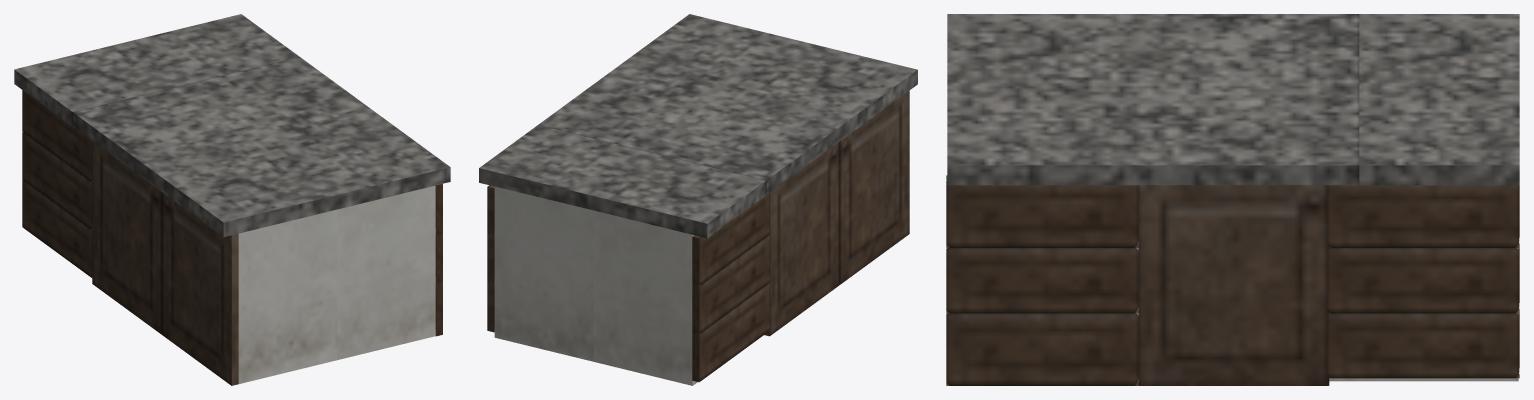
File: SM_EC_Kitchen_Island_Complete.fbx
3 views of the same model, side by side, from view 1: azimuth 30°, elevation 25°; view 2: azimuth 150°, elevation 25°; view 3: azimuth 270°, elevation 25° (orthographic). The views are drawn at different scales.
Parts seen in each view (by area): view 1: SM_EC_Kitchen_Island_Complete, SM_EC_CupboardDoor_7.022, SM_EC_CupboardDoor_7.021, SM_EC_FridgeFreezer_Complete_0.059, SM_EC_FridgeFreezer_Complete_0.060, SM_EC_FridgeFreezer_Complete_0.061, SM_EC_FridgeFreezer_Complete_0.052, SM_EC_FridgeFreezer_Complete_0.057, SM_EC_FridgeFreezer_Complete_0.056; view 2: SM_EC_Kitchen_Island_Complete, SM_EC_CupboardDoor_7.021, SM_EC_CupboardDoor_7.022, SM_EC_FridgeFreezer_Complete_0.059, SM_EC_FridgeFreezer_Complete_0.060, SM_EC_FridgeFreezer_Complete_0.061, SM_EC_KitchenIsland_0, SM_EC_FridgeFreezer_Complete_0.062, SM_EC_FridgeFreezer_Complete_0.063; view 3: SM_EC_Kitchen_Island_Complete, SM_EC_CupboardDoor_7.023, SM_EC_FridgeFreezer_Complete_0.052, SM_EC_FridgeFreezer_Complete_0.062, SM_EC_FridgeFreezer_Complete_0.063, SM_EC_FridgeFreezer_Complete_0.056, SM_EC_FridgeFreezer_Complete_0.057, SM_EC_KitchenIsland_0.
Part boxes in pixels (left/top/right/bottom): SM_EC_Kitchen_Island_Complete: left=14, top=14, right=450, bottom=383; SM_EC_CupboardDoor_7.022: left=162, top=192, right=238, bottom=385; SM_EC_CupboardDoor_7.021: left=92, top=141, right=162, bottom=334; SM_EC_FridgeFreezer_Complete_0.059: left=22, top=179, right=92, bottom=277; SM_EC_FridgeFreezer_Complete_0.060: left=22, top=132, right=92, bottom=229; SM_EC_FridgeFreezer_Complete_0.061: left=22, top=90, right=92, bottom=182; SM_EC_FridgeFreezer_Complete_0.052: left=435, top=276, right=442, bottom=336; SM_EC_FridgeFreezer_Complete_0.057: left=435, top=184, right=442, bottom=235; SM_EC_FridgeFreezer_Complete_0.056: left=435, top=234, right=442, bottom=282; SM_EC_Kitchen_Island_Complete: left=479, top=14, right=917, bottom=385; SM_EC_CupboardDoor_7.021: left=764, top=142, right=839, bottom=336; SM_EC_CupboardDoor_7.022: left=839, top=90, right=909, bottom=284; SM_EC_FridgeFreezer_Complete_0.059: left=692, top=283, right=769, bottom=382; SM_EC_FridgeFreezer_Complete_0.060: left=692, top=235, right=769, bottom=334; SM_EC_FridgeFreezer_Complete_0.061: left=692, top=193, right=769, bottom=286; SM_EC_KitchenIsland_0: left=487, top=185, right=494, bottom=236; SM_EC_FridgeFreezer_Complete_0.062: left=487, top=281, right=494, bottom=332; SM_EC_FridgeFreezer_Complete_0.063: left=487, top=235, right=494, bottom=284; SM_EC_Kitchen_Island_Complete: left=947, top=14, right=1519, bottom=381; SM_EC_CupboardDoor_7.023: left=1138, top=185, right=1329, bottom=385; SM_EC_FridgeFreezer_Complete_0.052: left=946, top=308, right=1138, bottom=385; SM_EC_FridgeFreezer_Complete_0.062: left=1327, top=308, right=1519, bottom=378; SM_EC_FridgeFreezer_Complete_0.063: left=1327, top=248, right=1519, bottom=313; SM_EC_FridgeFreezer_Complete_0.056: left=946, top=248, right=1138, bottom=313; SM_EC_FridgeFreezer_Complete_0.057: left=946, top=175, right=1138, bottom=247; SM_EC_KitchenIsland_0: left=1327, top=185, right=1519, bottom=247.
Size of the model in its own units: 1.62 by 2.6 by 1.13.
